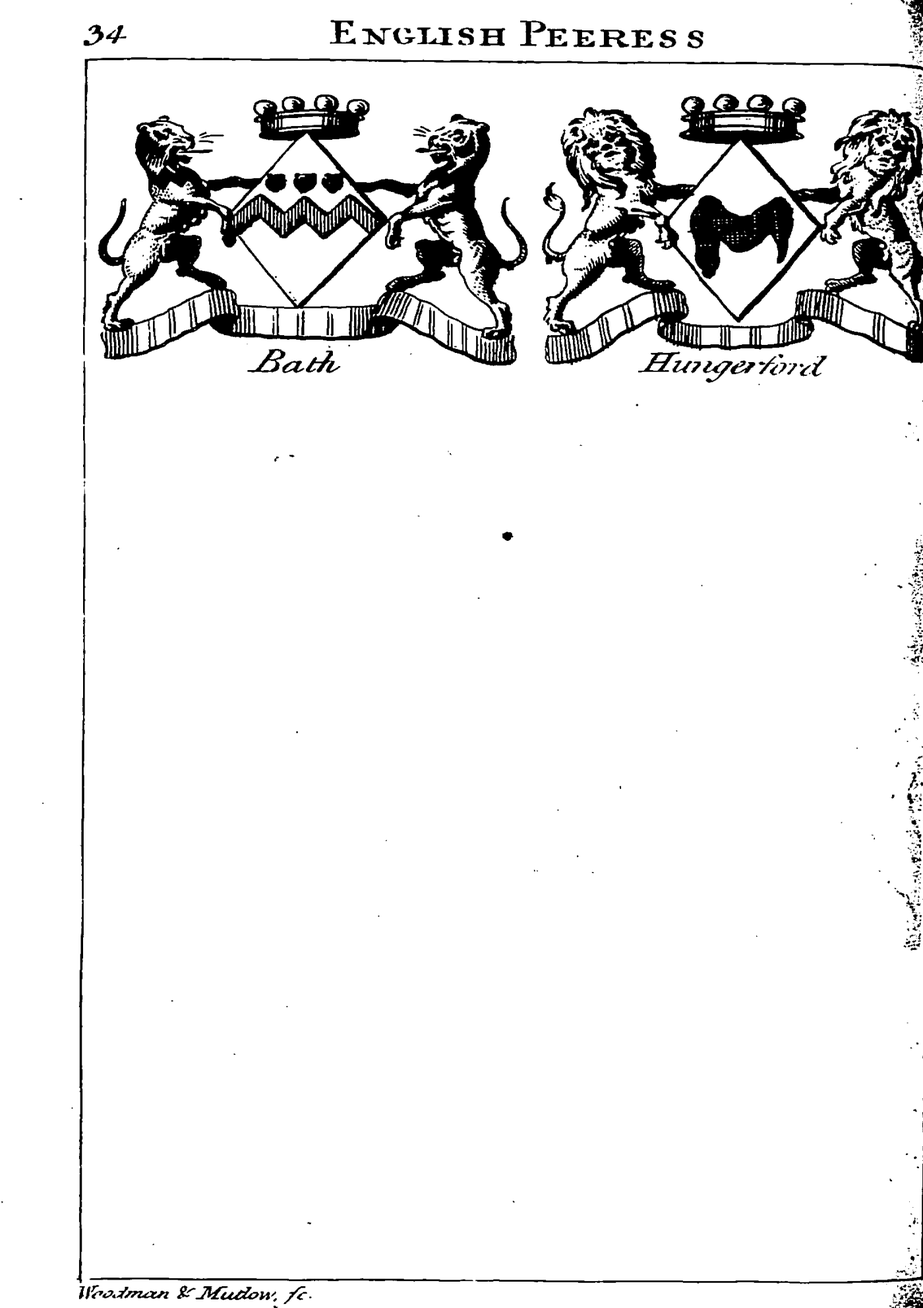coat_of_arms: (105, 73, 525, 382), (529, 71, 922, 386)
